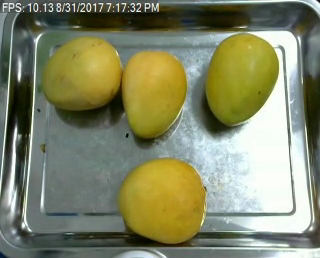Mango: (118, 156, 208, 244), (205, 32, 282, 125), (119, 49, 188, 136), (42, 38, 121, 111)
